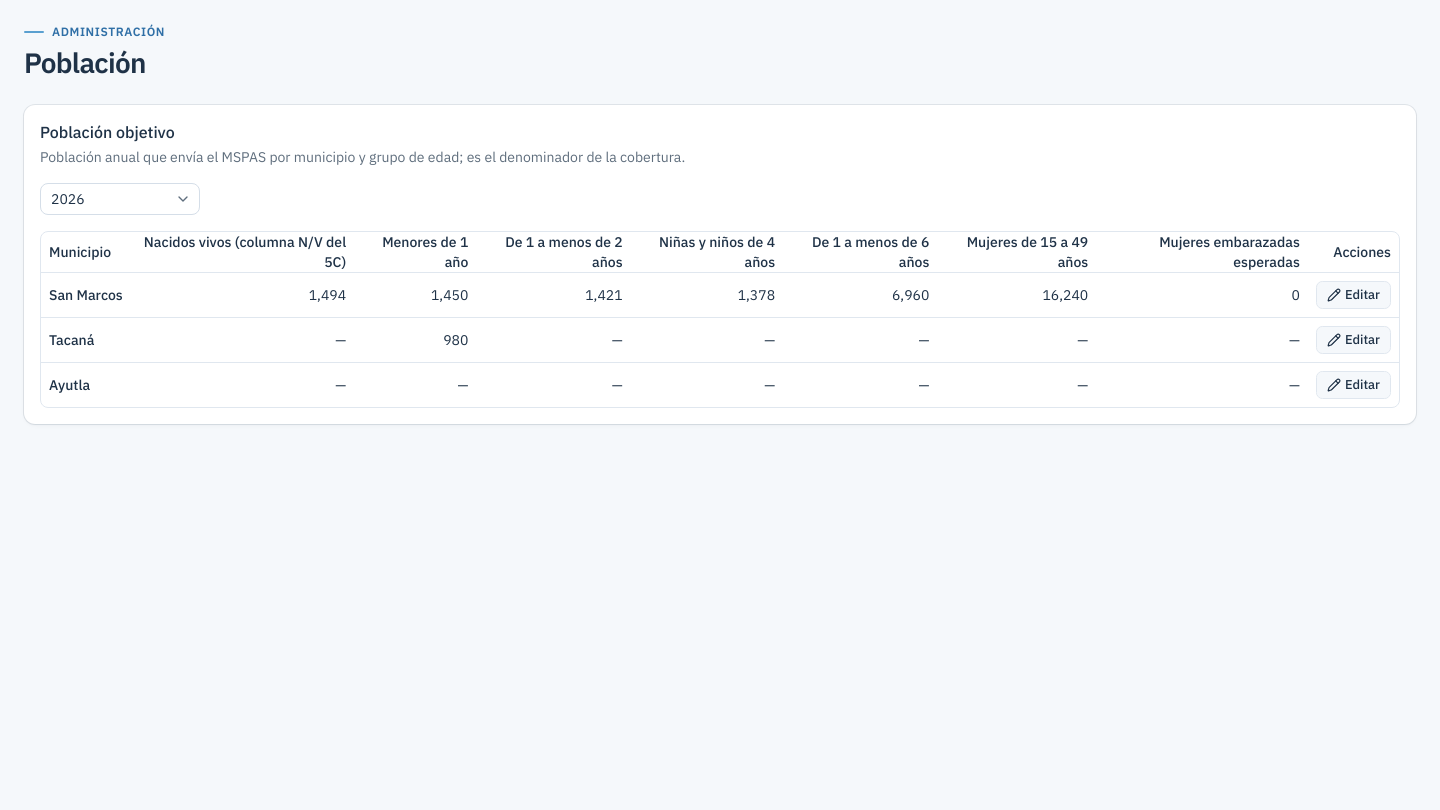
Test: Editar la población de un municipio › el Dialog viene con las cantidades y la fuente actuales
Click the button "Editar" in the row of "San Marcos" at (1354, 295), box [1316,281,1391,309]
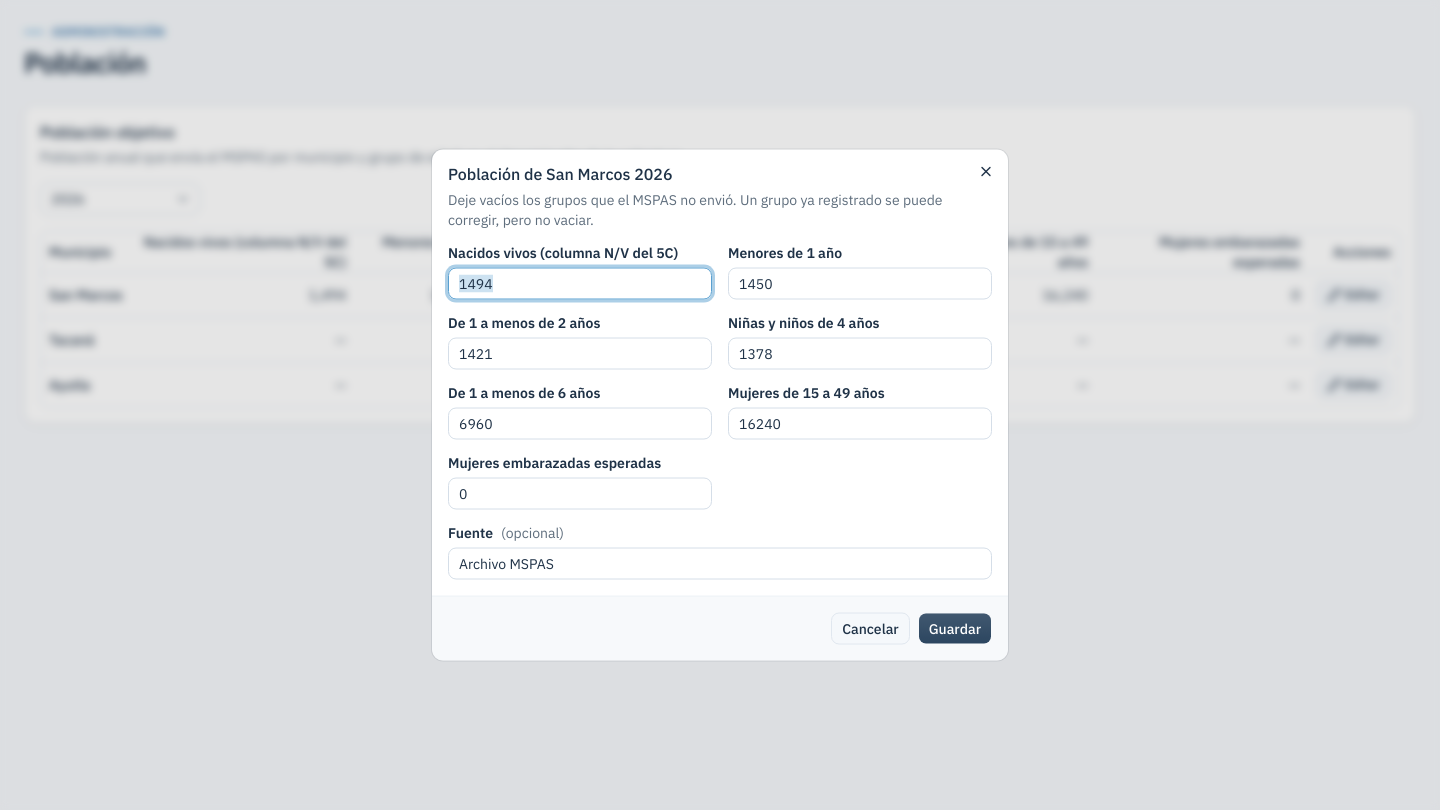
Result: the dialog "Población de San Marcos 2026" is shown at [432,150,1008,660]
Result: the field labelled "Nacidos vivos (columna N/V del 5C)" holds "1494" at [448,268,712,300]
Result: the field labelled "Mujeres embarazadas esperadas" holds "0" at [448,478,712,510]
